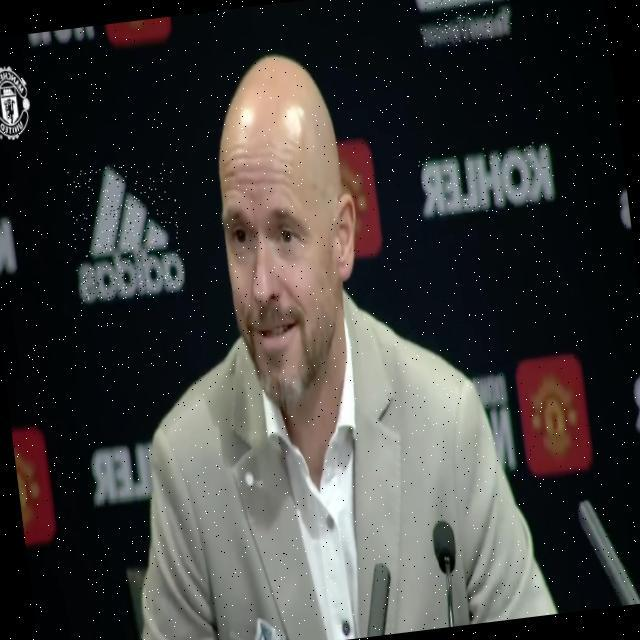Adidas: (64, 158, 187, 303)
Kohler: (417, 140, 557, 219)
TeamViewer: (414, 0, 514, 49)
